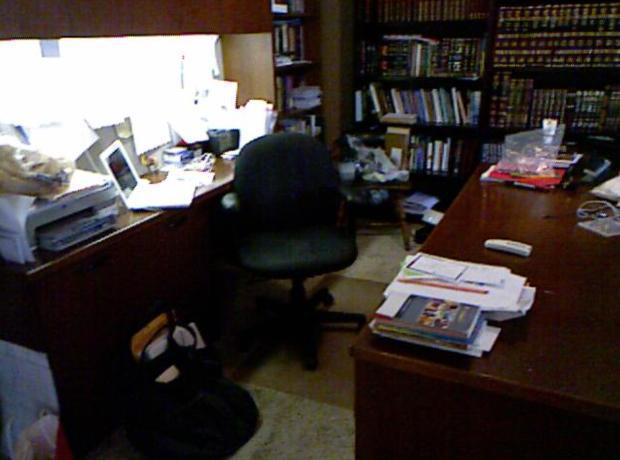Otro Obstaculo: (109, 312, 265, 457)
